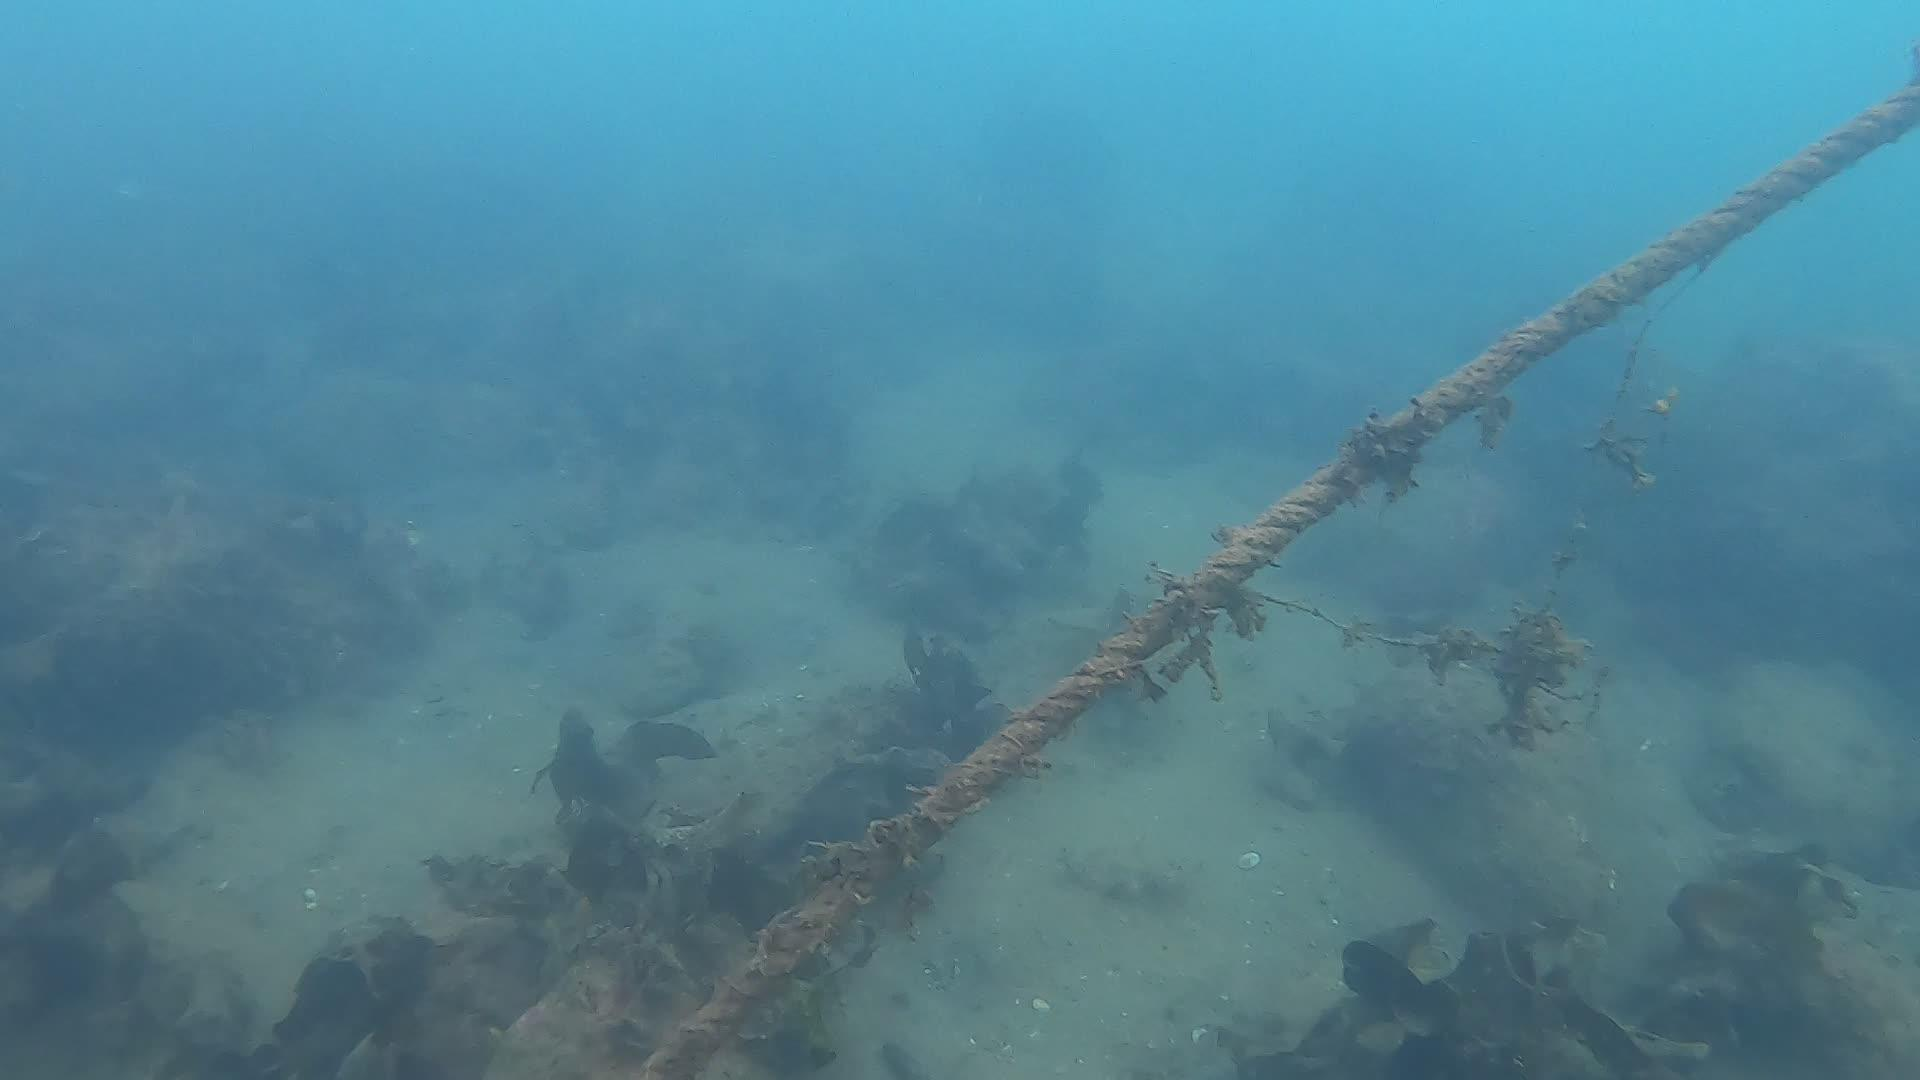rope: (626, 74, 1920, 1080)
